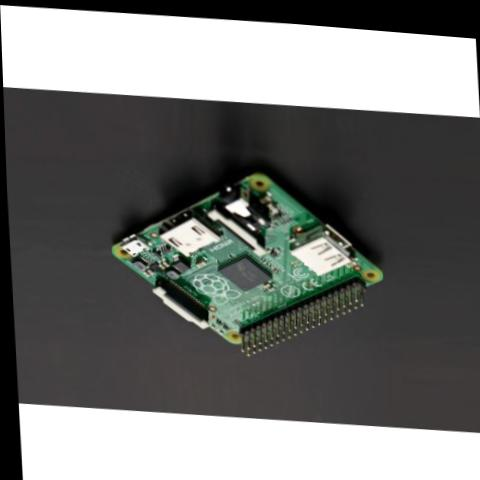Raspberry-Pi-1-Model-A-: (92, 136, 400, 372)
